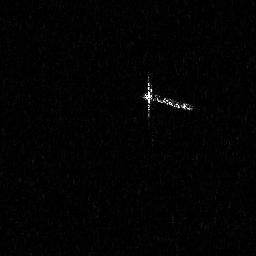ship: (140, 73, 196, 122)
